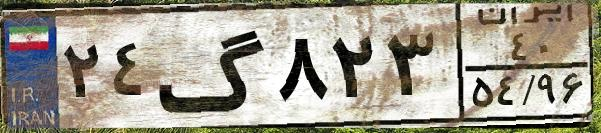0: (537, 27, 568, 80)
2: (330, 28, 385, 110), (57, 26, 110, 100)
3: (385, 28, 445, 110)
4: (110, 28, 156, 98), (508, 27, 537, 80), (495, 70, 520, 125)
5: (470, 70, 495, 125)
6: (560, 70, 590, 125)
8: (270, 28, 330, 110)
9: (535, 70, 560, 125)
گ: (156, 12, 270, 120)
